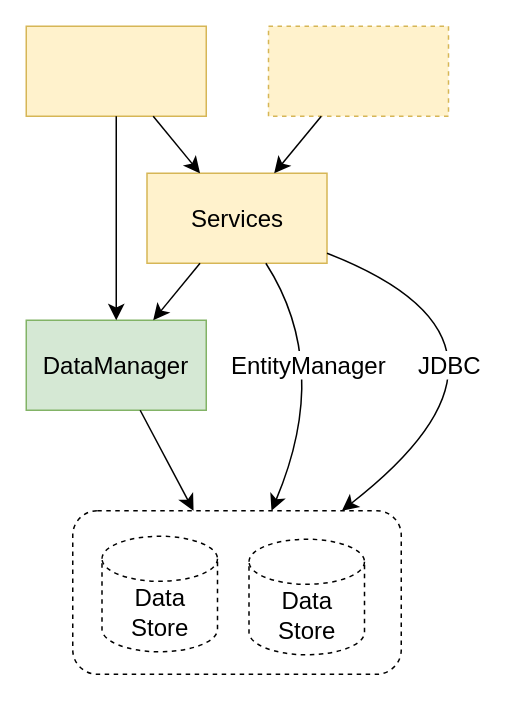
Some shapes in this 507 by 701 pixel diagram are drawn without their labels. Here are the shapes that lost their labels. From the top down, the centre of each, then its label:
point (115, 70): UI Views
point (357, 70): REST Controllers
